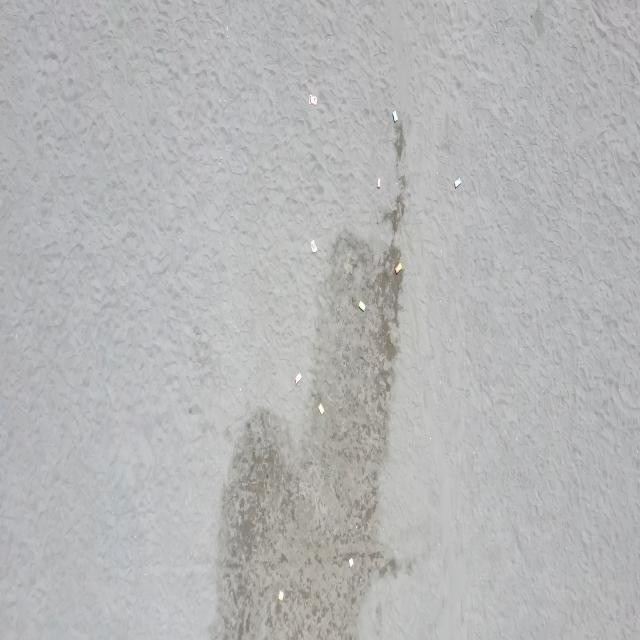Garbage: (393, 261, 403, 272), (308, 94, 316, 104), (357, 300, 364, 311), (310, 240, 316, 252), (453, 178, 460, 187), (318, 403, 324, 413), (347, 557, 352, 567), (278, 590, 283, 600), (296, 372, 300, 384), (376, 176, 380, 187), (392, 110, 396, 121)
